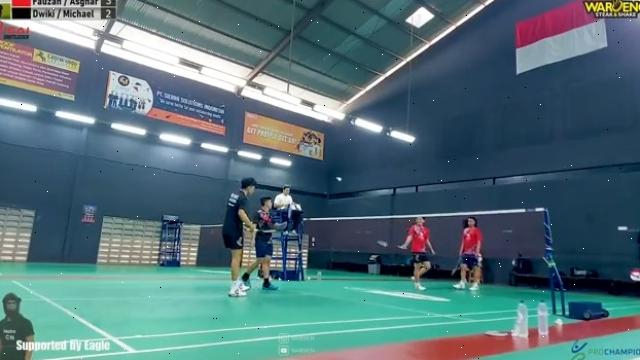Shuttlecock: (334, 175, 344, 183)
